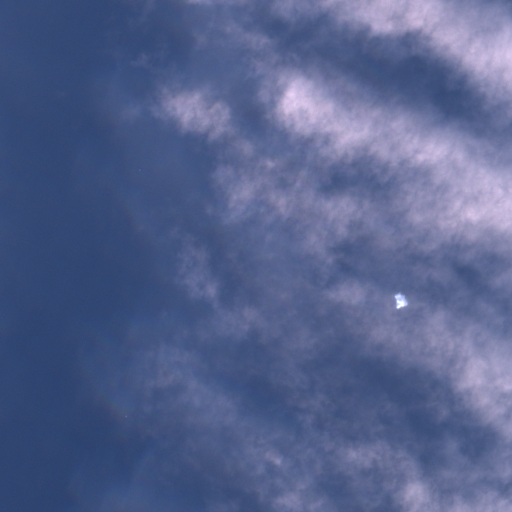Iceberg: (395, 293, 407, 308)
